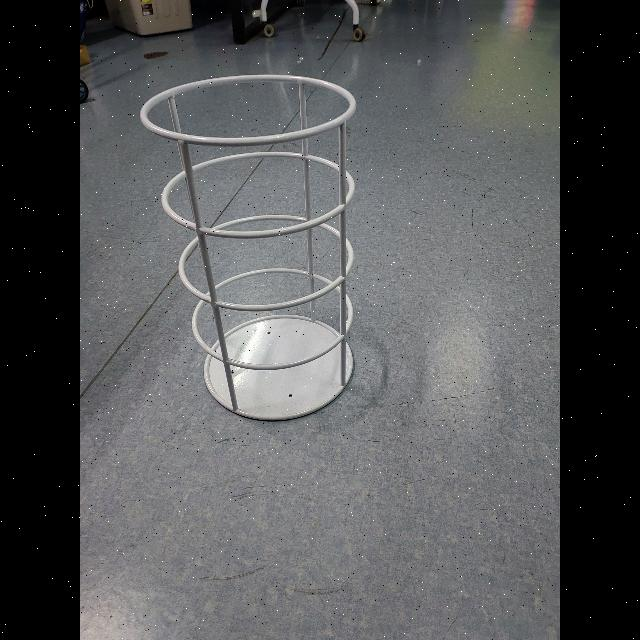S: (140, 70, 360, 426)
